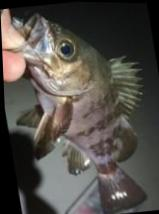fish: (12, 13, 143, 213)
